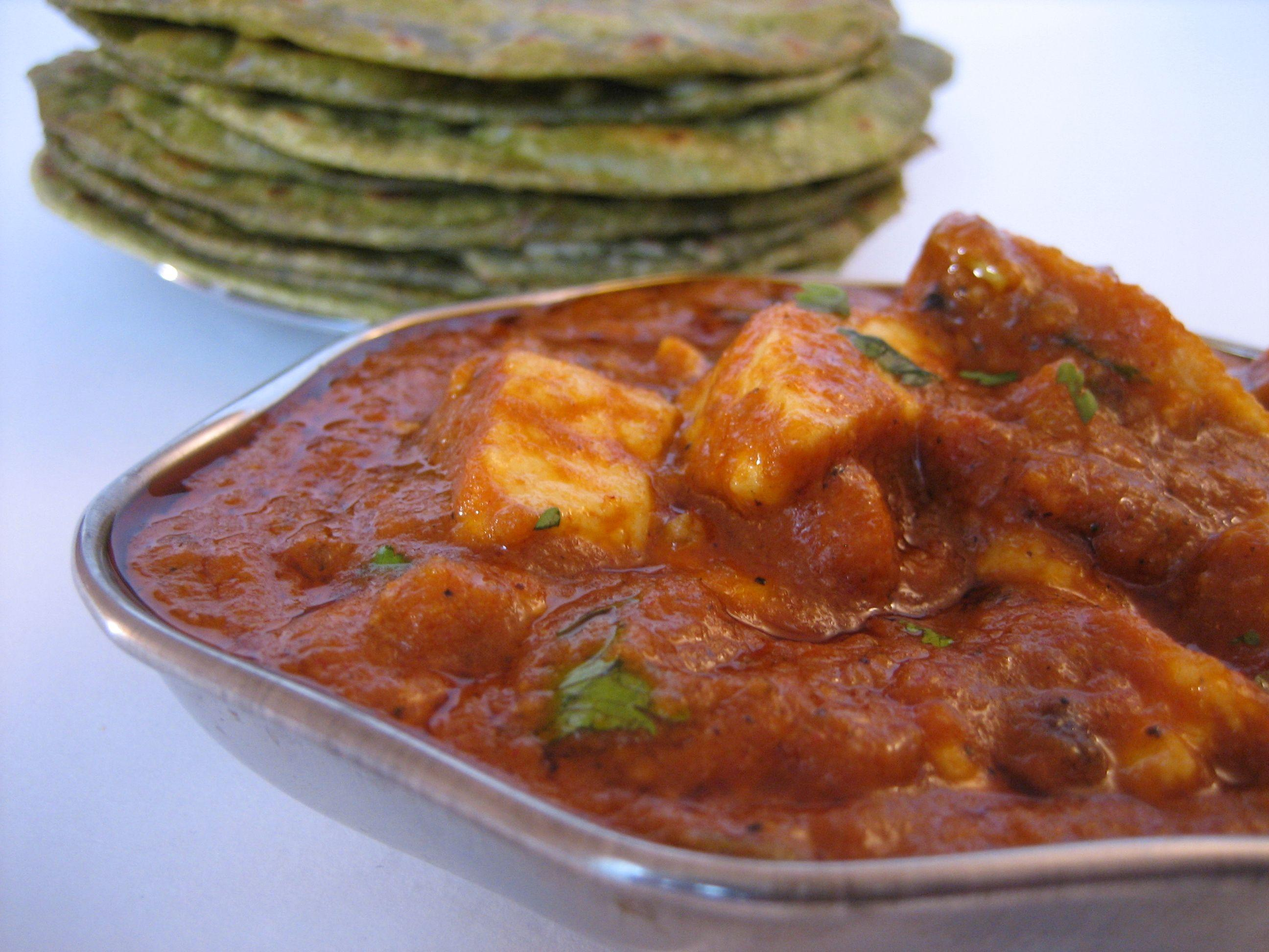ShahiPaneer: (136, 211, 1269, 904)
